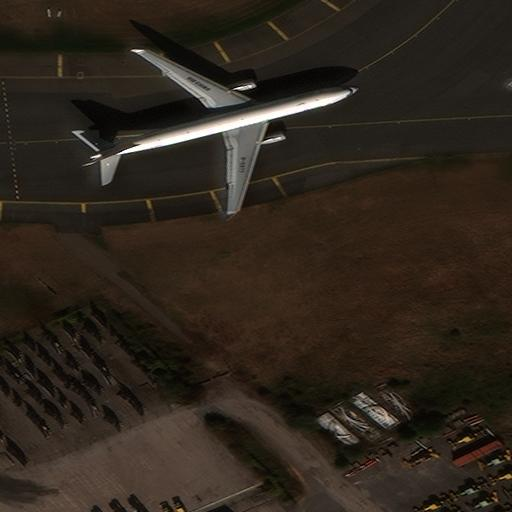Large Civil Transport: (81, 50, 357, 212)
